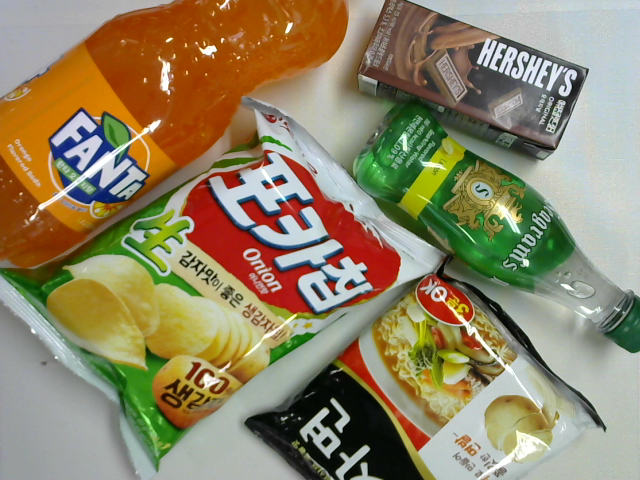Hush_Choco_Drink: (356, 1, 591, 161)
Hwanta_Orange_1.5L: (1, 1, 349, 270)
Pocachip_Onion: (1, 93, 448, 480)
Potato: (244, 254, 608, 480)
Seagram_Lemon_Carbonated_Water: (348, 98, 640, 354)
